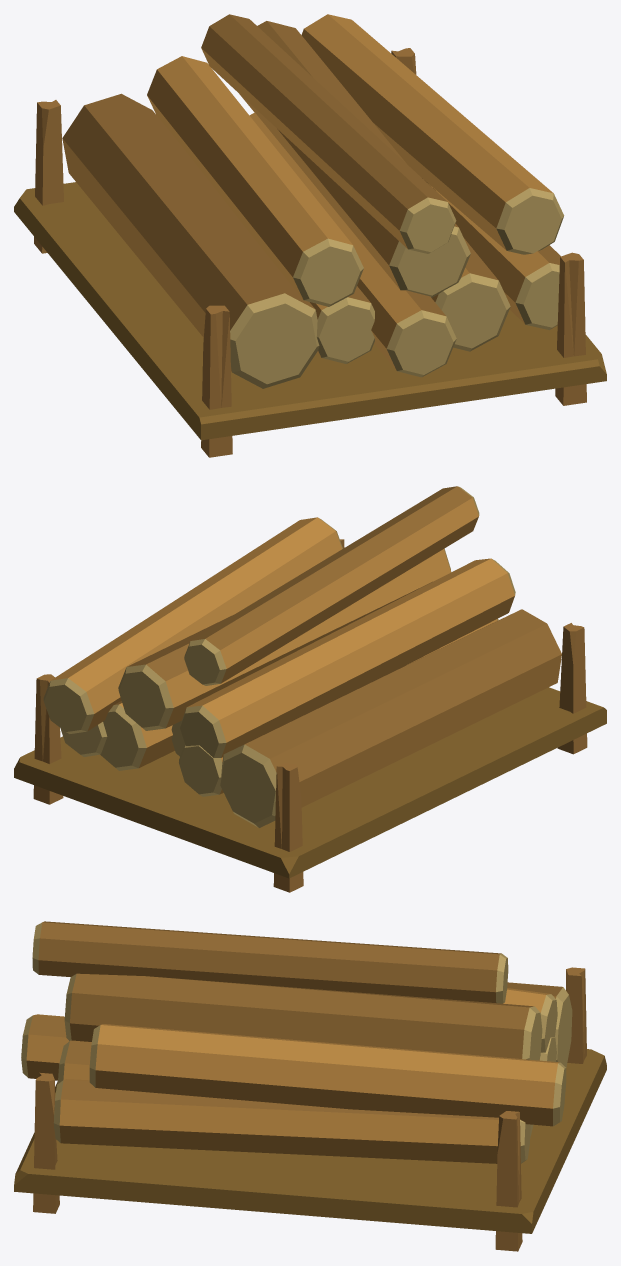
Rendered from Wood5.fbx.
3 views of the same model, one above another, from view 1: azimuth 30°, elevation 25°; view 2: azimuth 150°, elevation 25°; view 3: azimuth 270°, elevation 25° (orthographic). The views are drawn at different scales.
Parts seen in each view (by area): view 1: Wood5; view 2: Wood5; view 3: Wood5.
Boxes of the visible parts, x1,y1,x2,y2 form: Wood5: (14, 14, 606, 457); Wood5: (14, 486, 606, 892); Wood5: (14, 921, 606, 1251).
Size of the model in its own units: 185 by 92.18 by 225.
